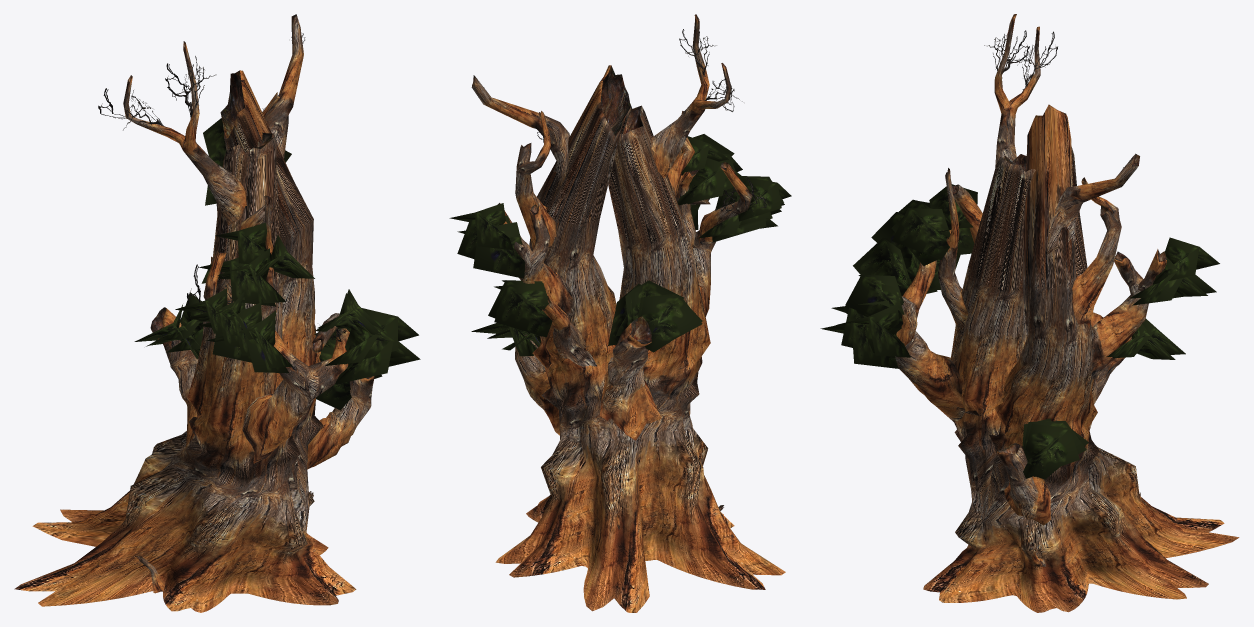
File: BristleconePine_RT_02.fbx
The picture shows the model from 3 angles, left to right: view 1: azimuth 30°, elevation 25°; view 2: azimuth 150°, elevation 25°; view 3: azimuth 270°, elevation 25°; orthographic projection. The views are drawn at different scales.
Visible parts, largest first — view 1: BristleconePine_RT_02, BristleconePine_RT_02_Leafs; view 2: BristleconePine_RT_02, BristleconePine_RT_02_Leafs; view 3: BristleconePine_RT_02, BristleconePine_RT_02_Leafs.
Part boxes in pixels (box(x1,y1,x2,y2)): BristleconePine_RT_02: box(14, 14, 374, 612); BristleconePine_RT_02_Leafs: box(98, 33, 420, 410); BristleconePine_RT_02: box(471, 14, 785, 612); BristleconePine_RT_02_Leafs: box(449, 29, 791, 356); BristleconePine_RT_02: box(895, 14, 1239, 612); BristleconePine_RT_02_Leafs: box(820, 30, 1219, 479).
Bounding box in the file's own units: 6.67 × 7.69 × 10.65.
